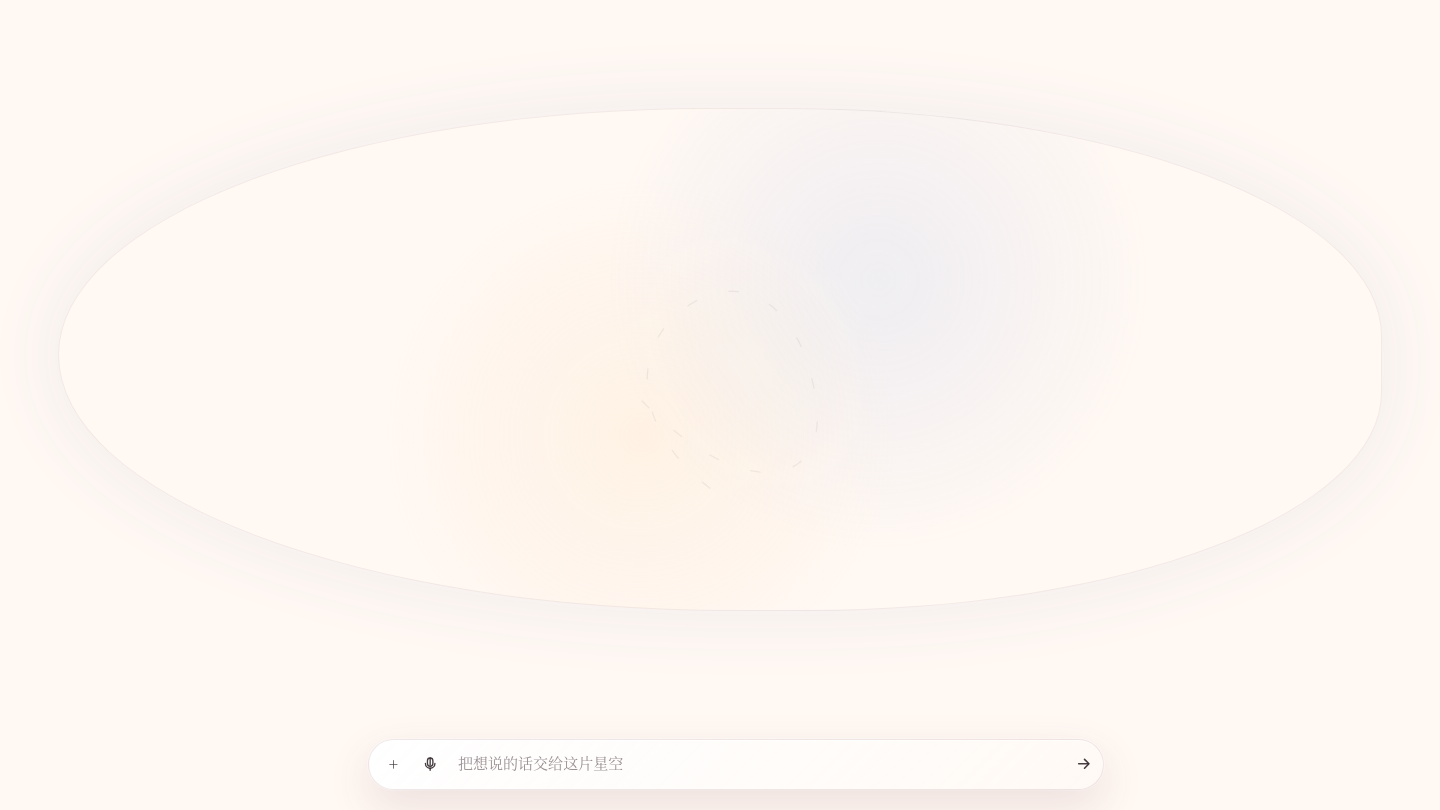
Scenario: StarChat › fills the input from browser speech recognition
Click the button named "语音输入": (430, 764) [413,748,447,781]
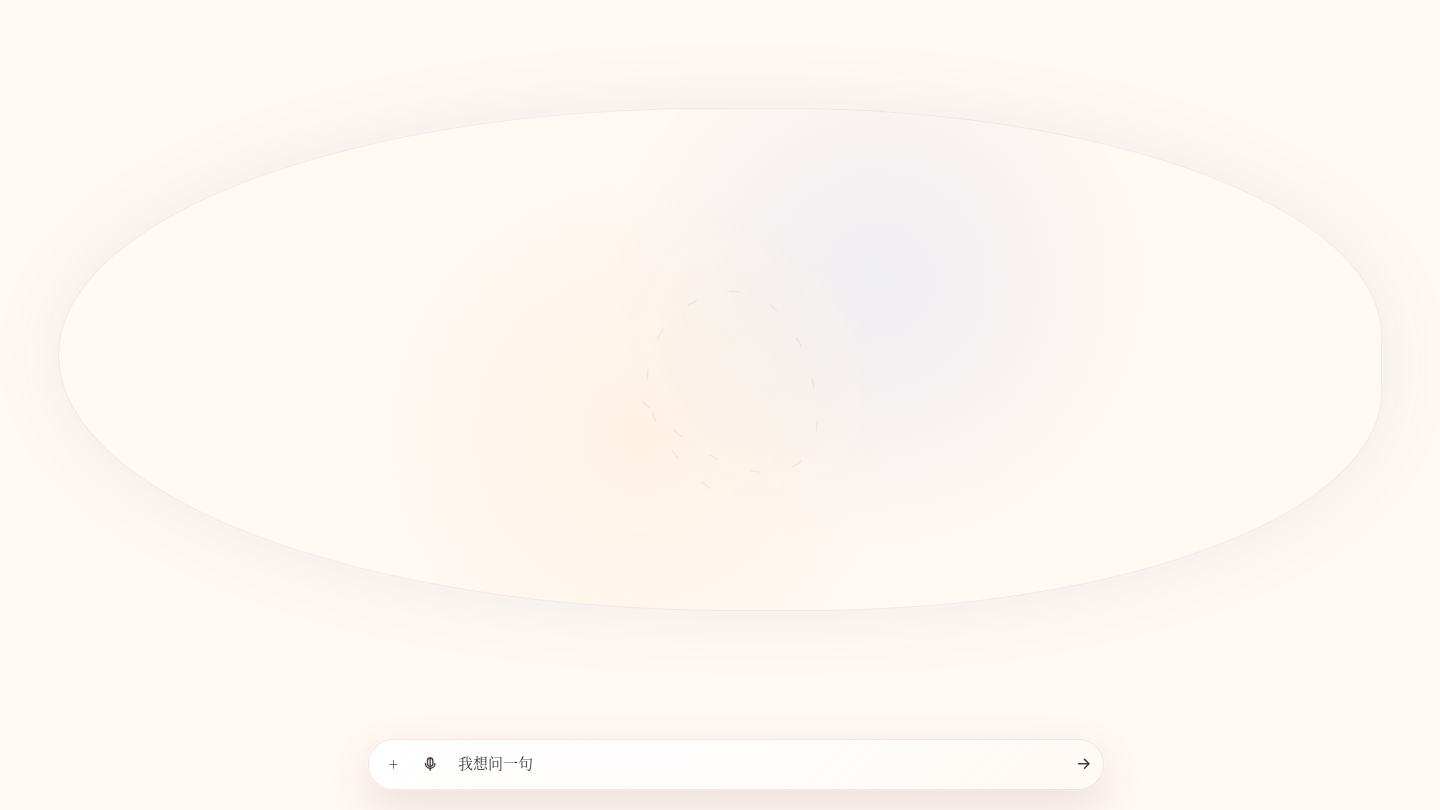
Result: the text box holds "我想问一句" at [456,747,1050,782]
